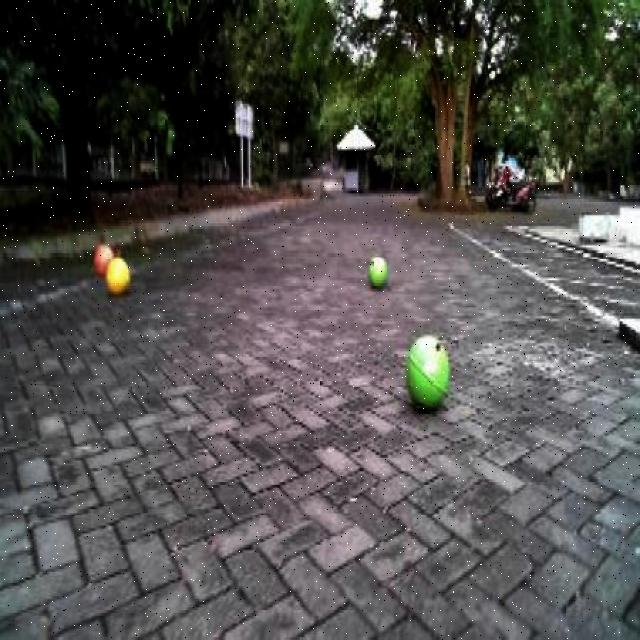buoy: (402, 326, 452, 418), (103, 251, 130, 297), (93, 231, 113, 278), (366, 249, 388, 287)
